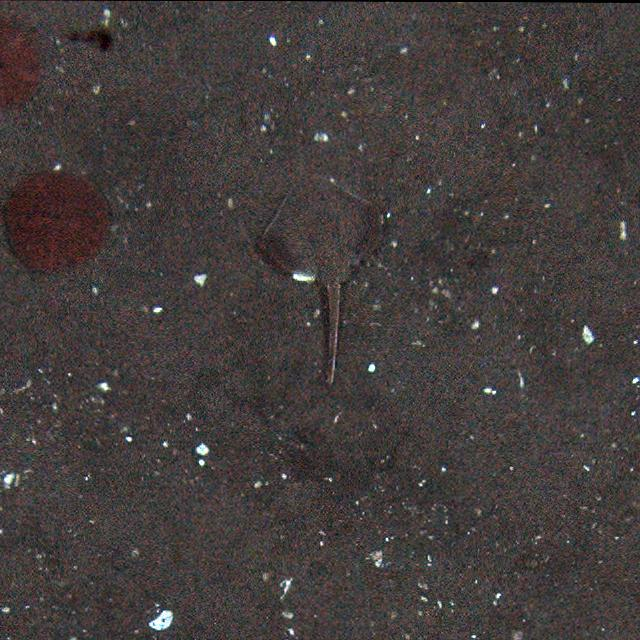skate: (250, 168, 384, 386)
